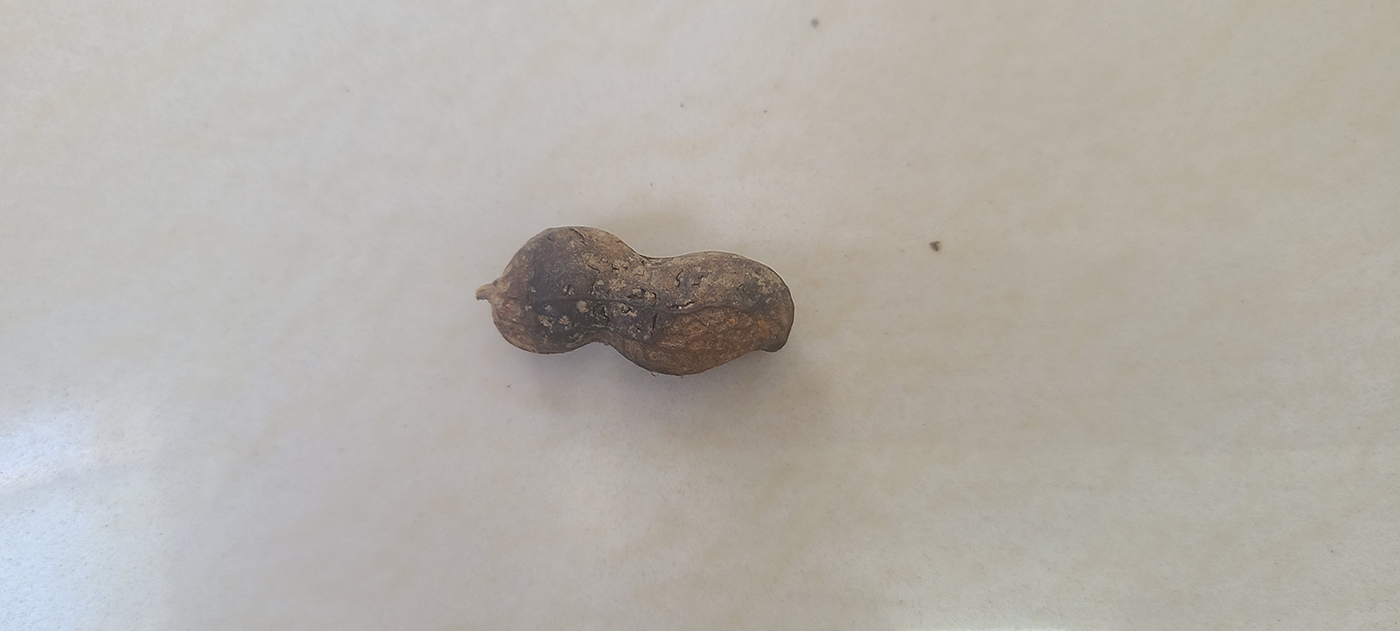l: (474, 223, 795, 374)
